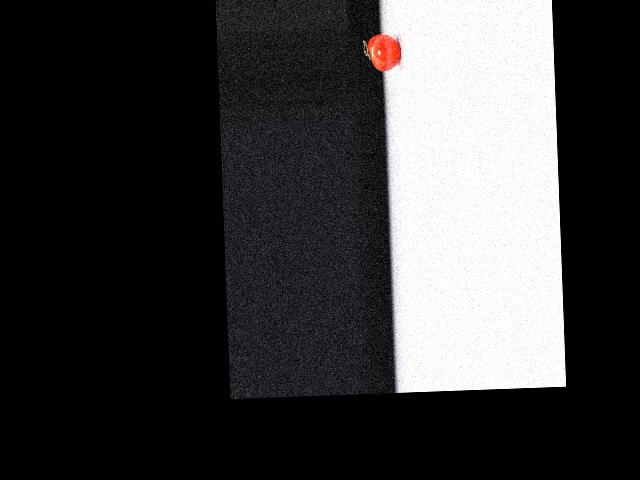tomato: (367, 33, 401, 72)
